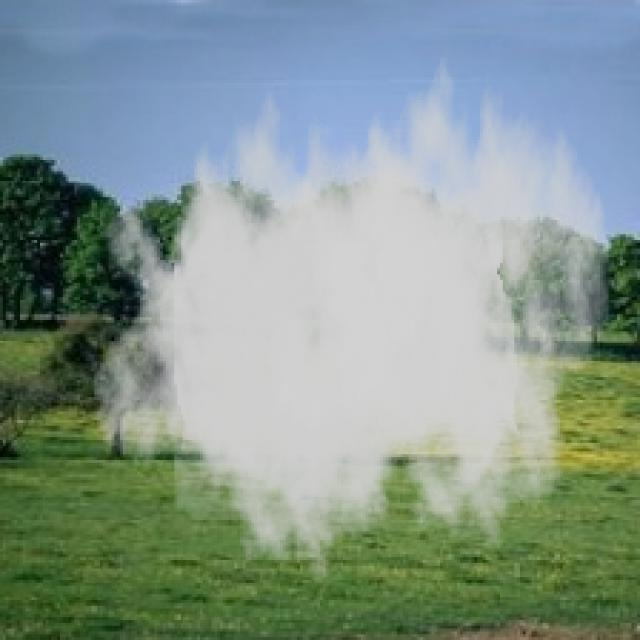Smoke: (91, 31, 612, 592)
